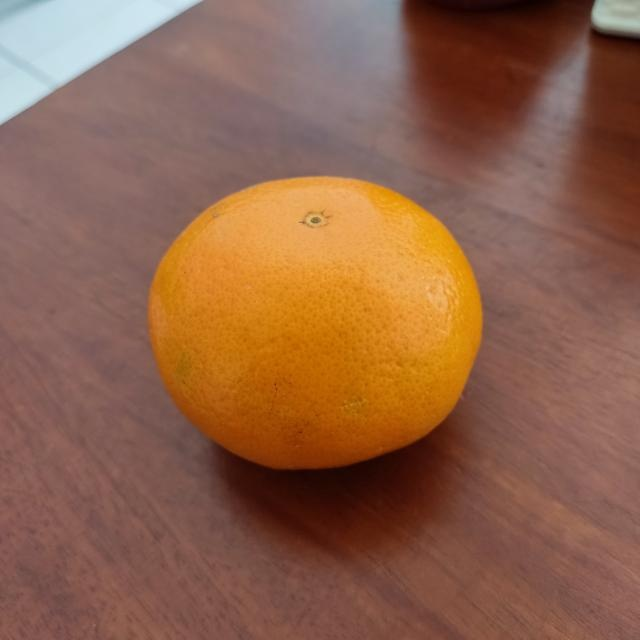agrume: (145, 174, 486, 470)
